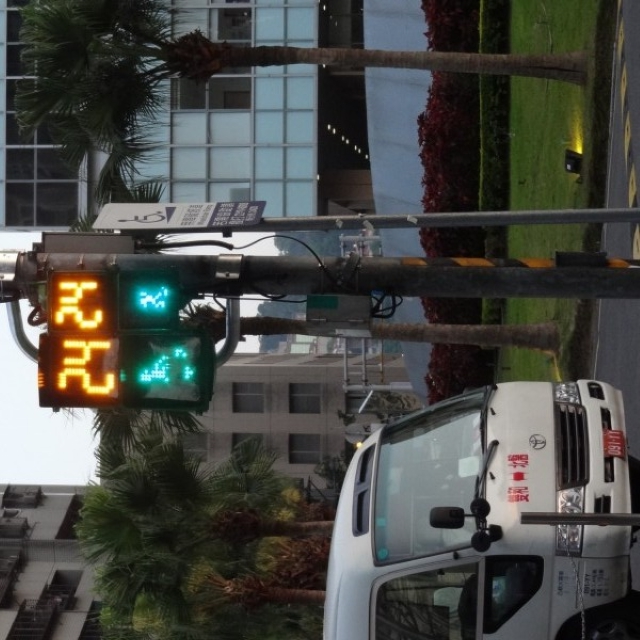green_light: (39, 332, 215, 412), (46, 275, 178, 330)
